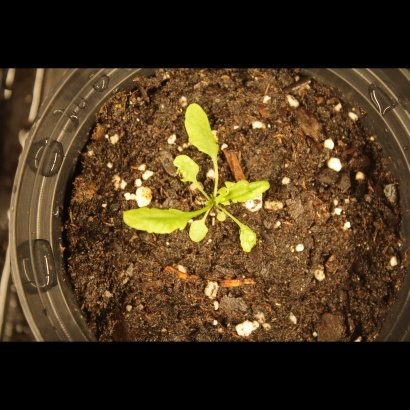leaf: (174, 96, 223, 162), (118, 200, 189, 242), (168, 149, 207, 202), (216, 177, 278, 210), (227, 222, 270, 256), (189, 216, 212, 244), (210, 206, 233, 229)
